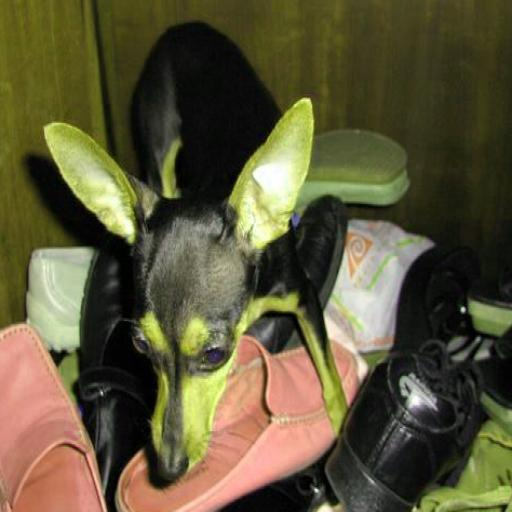dog_face: (52, 111, 326, 478)
